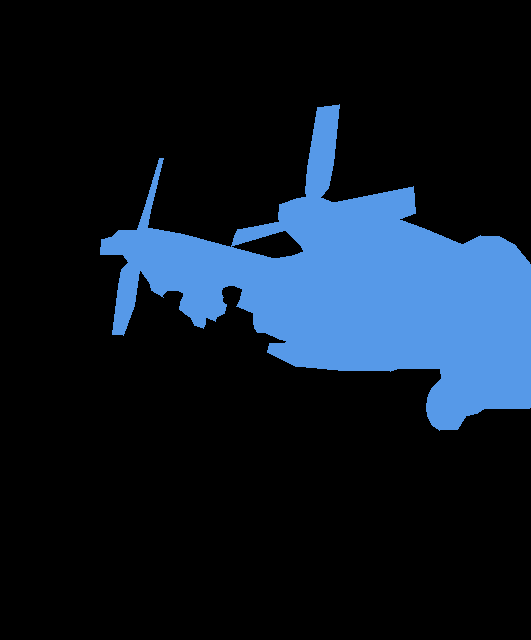Airplane: (100, 104, 531, 431)
